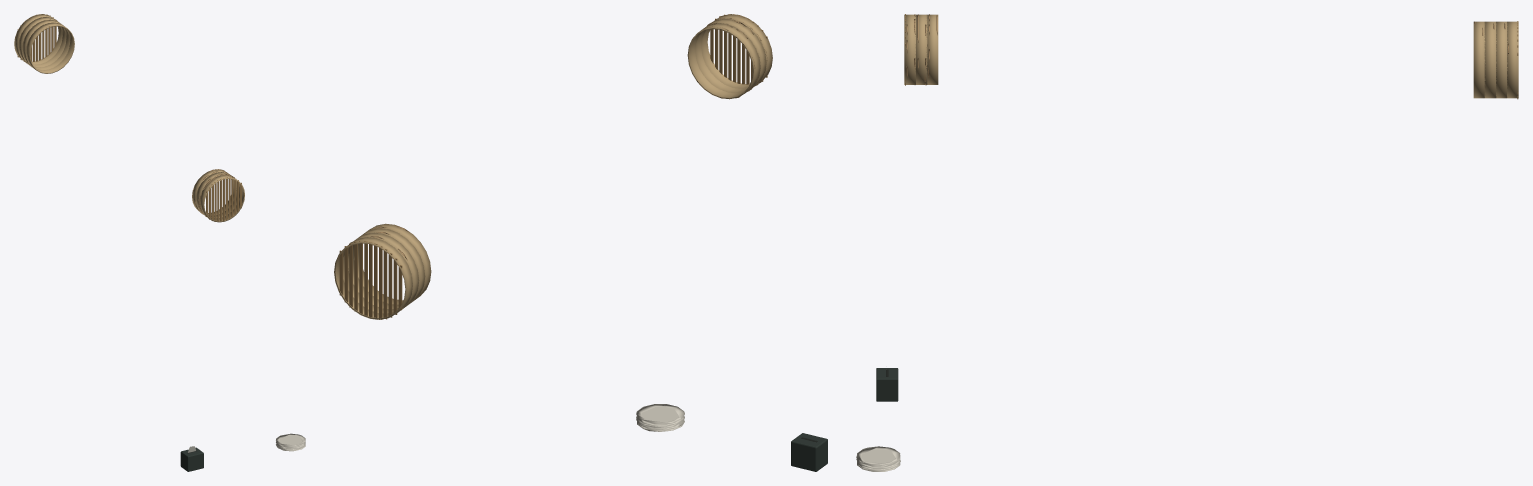
The model's file is stock.glb.
3 views of the same model, side by side, from view 1: azimuth 30°, elevation 25°; view 2: azimuth 150°, elevation 25°; view 3: azimuth 270°, elevation 25° (orthographic). The views are drawn at different scales.
Parts seen in each view (by area): view 1: Tianjin_stock; view 2: Tianjin_stock; view 3: Tianjin_stock.
Boxes of the visible parts, <box> form: Tianjin_stock: <box>14,14,305,471</box>; Tianjin_stock: <box>334,14,827,471</box>; Tianjin_stock: <box>856,14,1518,471</box>.
Bounding box in the file's own units: 0.9254 × 2.14 × 3.1.
